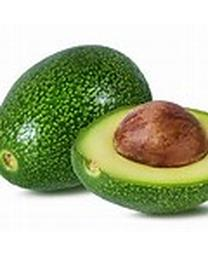avocado: (0, 44, 152, 194), (71, 100, 207, 214)
